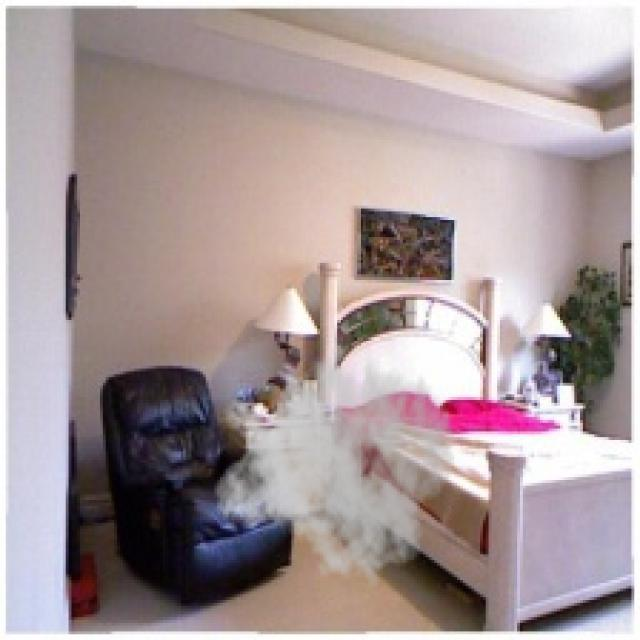Smoke: (214, 326, 457, 588)
